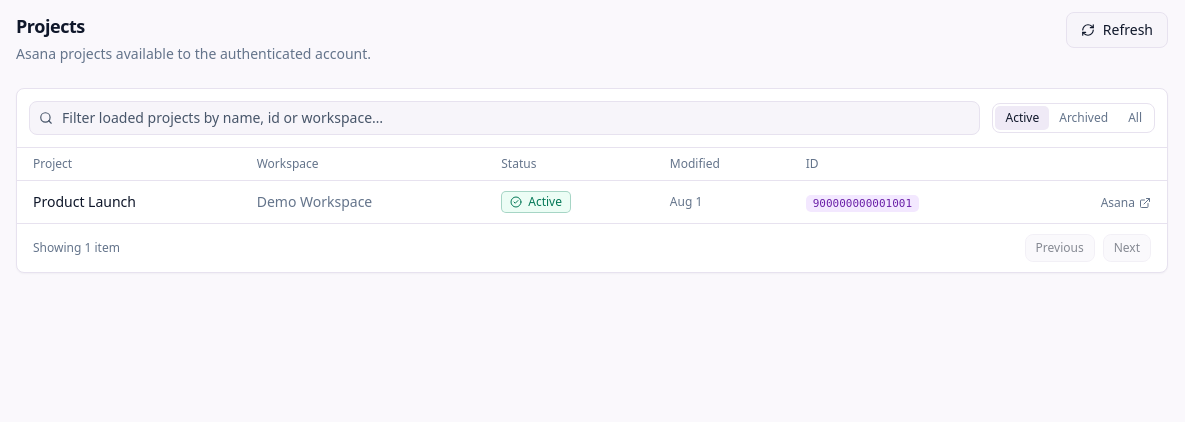
Projects › filters loaded projects as the user types
This screenshot has width=1185, height=422.
Type "nonexistent" into the search field named "Filter projects". click: (505, 118)
box: [29,101,980,135]
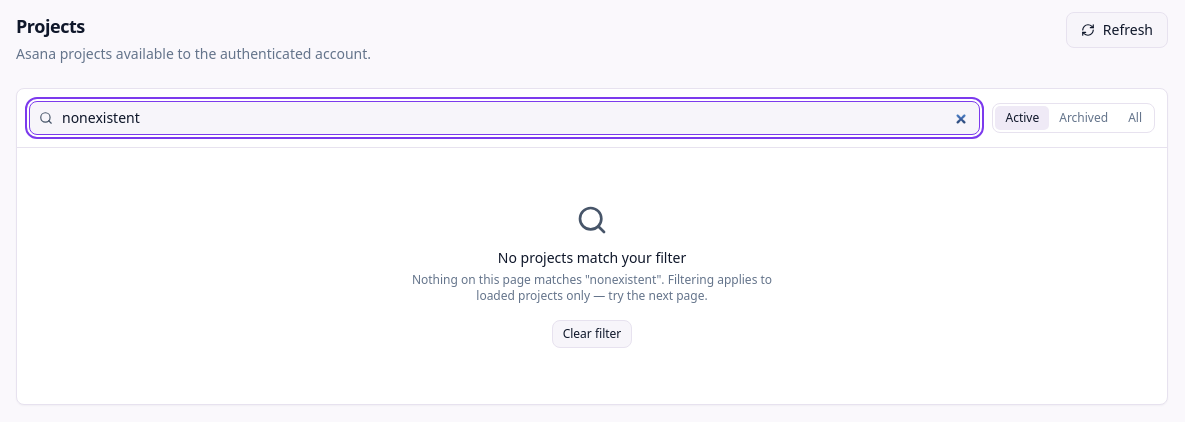
Expected: the heading "No projects match your filter" is shown, [498,248,686,268]
